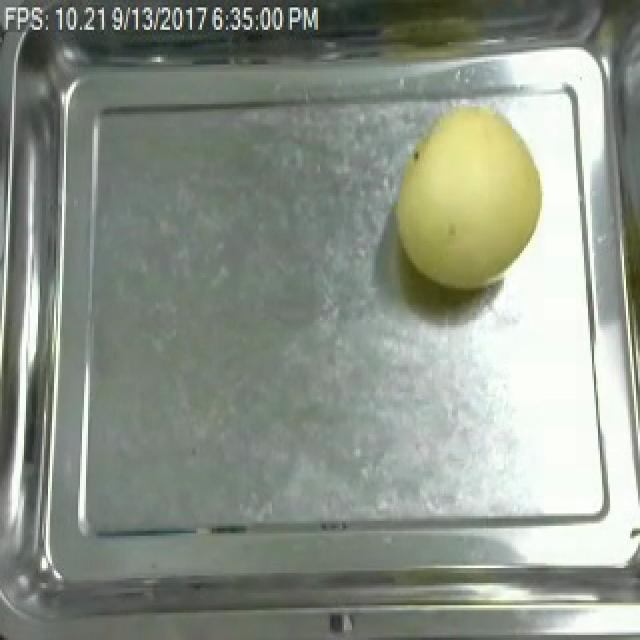Fruit: (384, 96, 552, 298)
